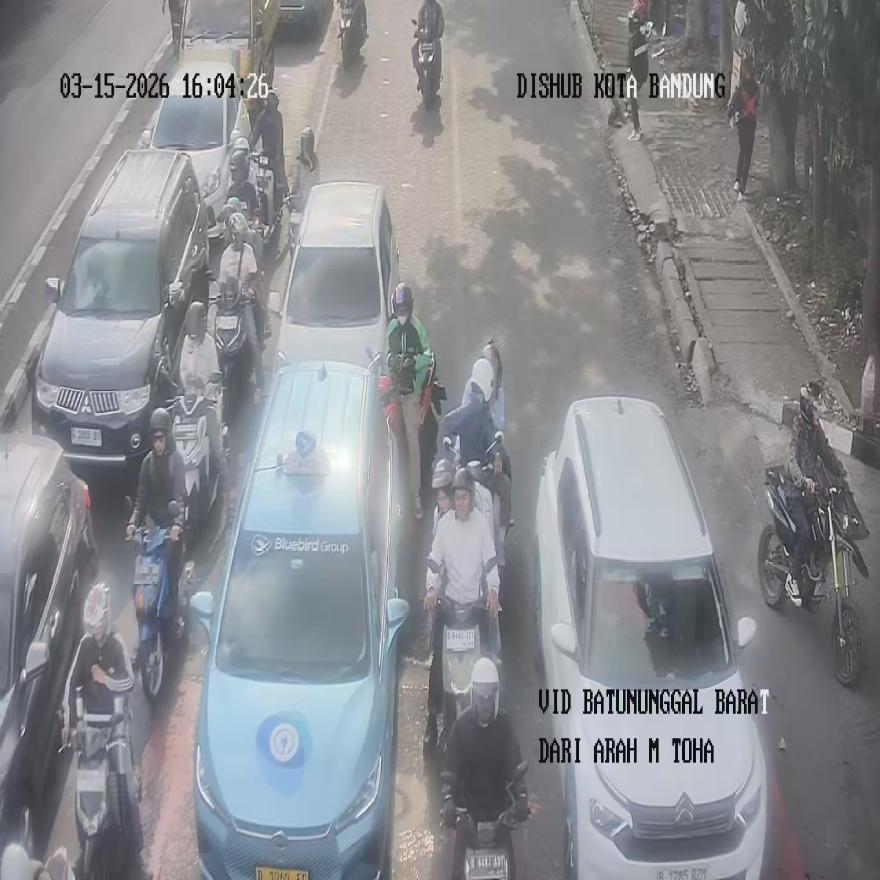Motor: (187, 356, 408, 877), (532, 397, 767, 878), (32, 148, 209, 469), (0, 433, 98, 858), (268, 180, 400, 376)
Truk: (758, 468, 867, 683), (424, 466, 500, 748), (69, 689, 143, 880), (127, 498, 192, 702), (378, 351, 438, 517), (445, 761, 529, 879), (168, 372, 228, 534), (214, 282, 265, 412), (412, 18, 440, 110), (338, 0, 366, 66), (164, 0, 182, 55)
